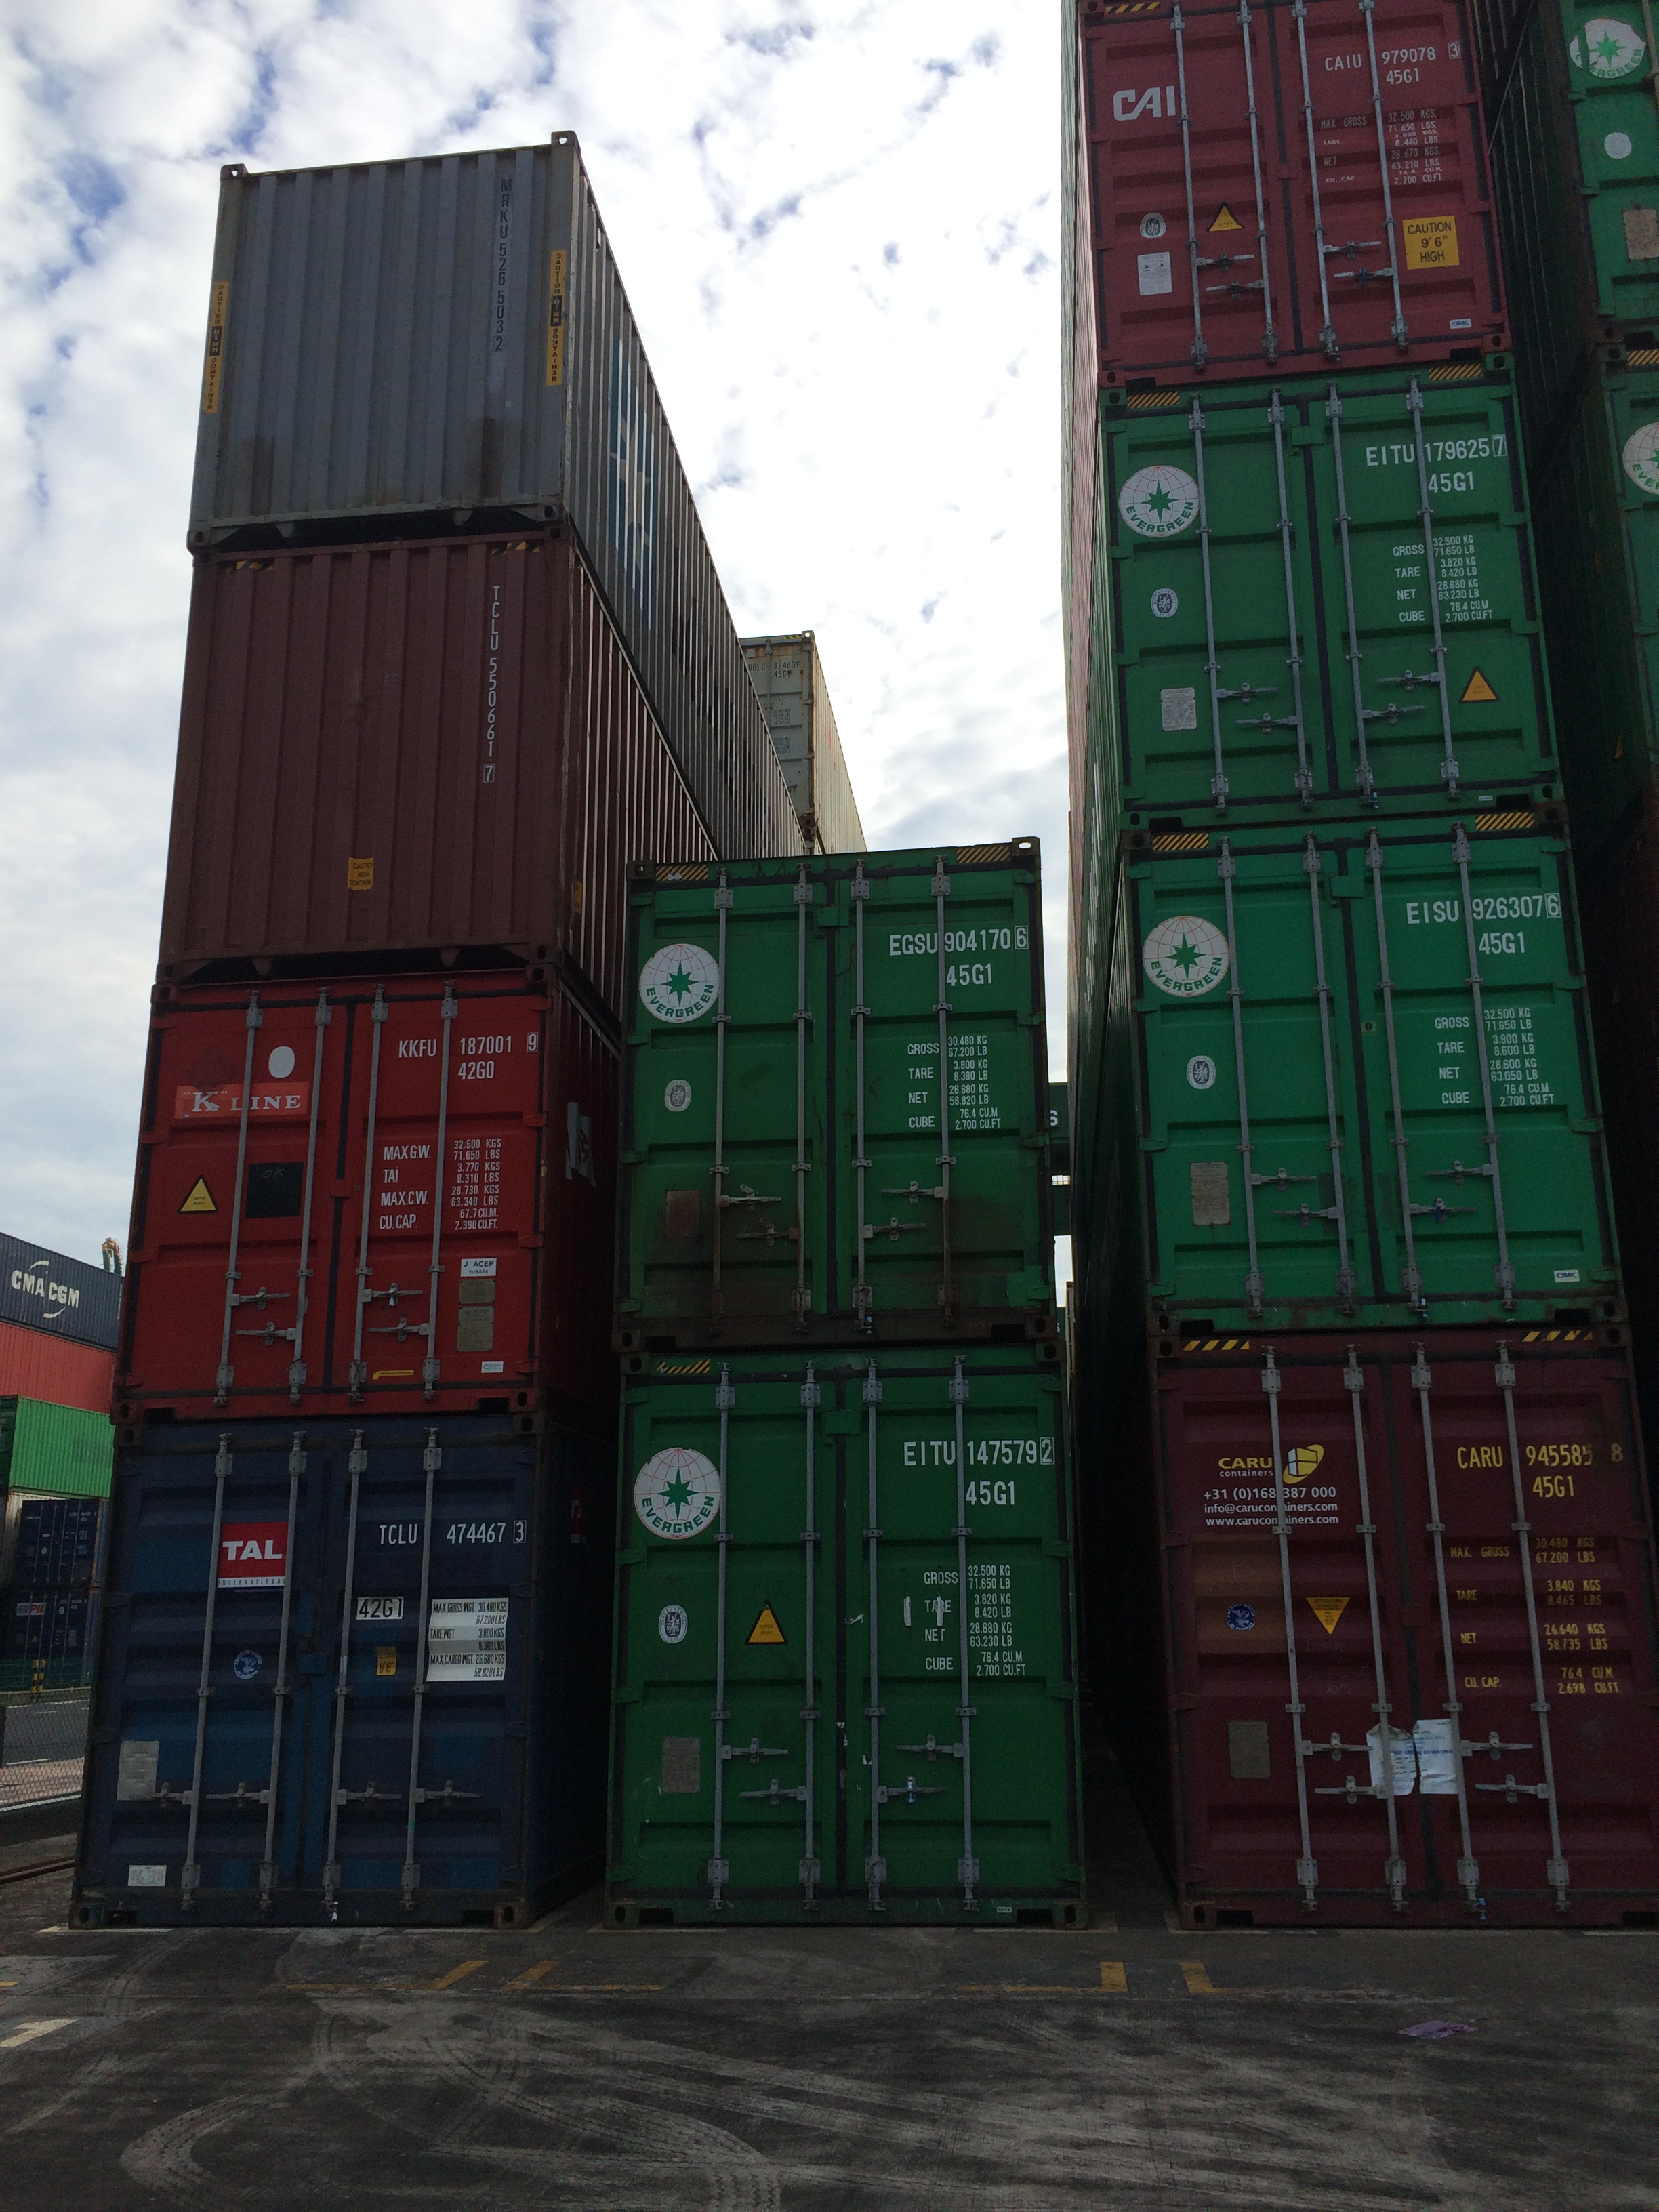container_door: (1141, 1336, 1659, 1926), (591, 1350, 1080, 1925), (1119, 840, 1645, 1327), (63, 1421, 561, 1935), (612, 831, 1046, 1362), (1094, 364, 1554, 836), (119, 977, 549, 1421), (1082, 0, 1493, 388)
container_no_door: (139, 543, 584, 989), (190, 139, 587, 540)
